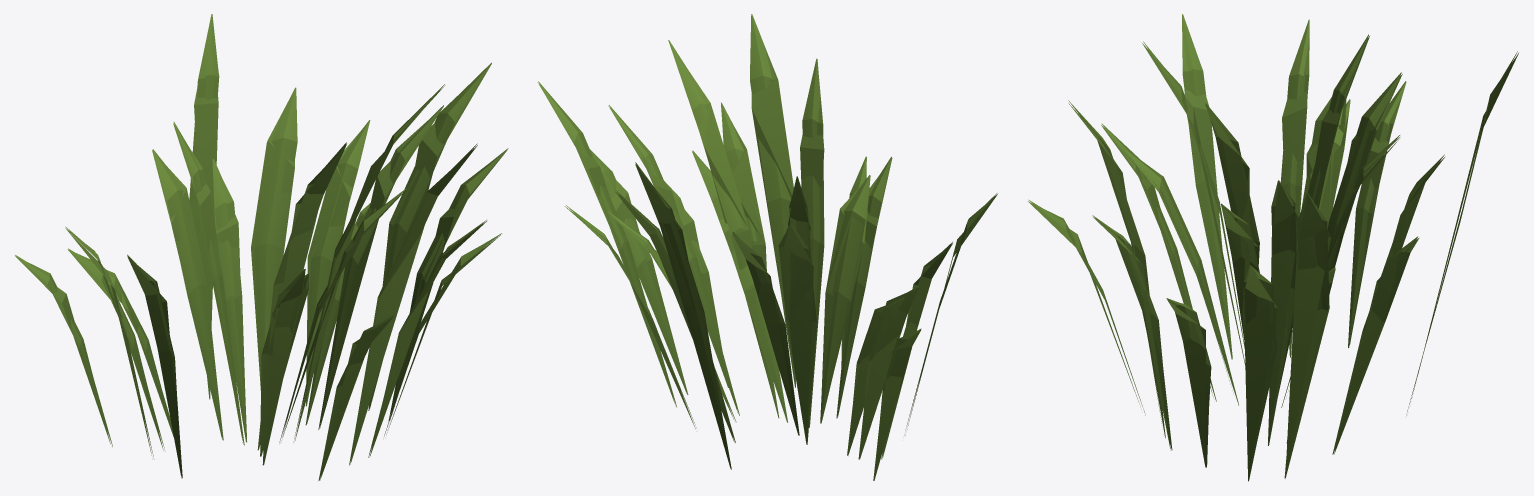
The model's file is Grass.source-pack-baseline.glb.
3 views of the same model, side by side, from view 1: azimuth 30°, elevation 25°; view 2: azimuth 150°, elevation 25°; view 3: azimuth 270°, elevation 25° (orthographic). The views are drawn at different scales.
Parts seen in each view (by area): view 1: Grass_L0, Grass_L2, Grass_L1; view 2: Grass_L0, Grass_L2, Grass_L1; view 3: Grass_L2, Grass_L0, Grass_L1.
Part boxes in pixels (x1=…): Grass_L0: x1=15, y1=14, x2=508, y2=480; Grass_L2: x1=16, y1=64, x2=507, y2=480; Grass_L1: x1=15, y1=49, x2=500, y2=480; Grass_L0: x1=538, y1=14, x2=996, y2=480; Grass_L2: x1=551, y1=47, x2=997, y2=479; Grass_L1: x1=537, y1=41, x2=997, y2=480; Grass_L2: x1=1027, y1=36, x2=1518, y2=481; Grass_L0: x1=1028, y1=14, x2=1517, y2=480; Grass_L1: x1=1028, y1=35, x2=1518, y2=480.
Size of the model in its own units: 0.6009 by 0.4504 by 0.5027.
